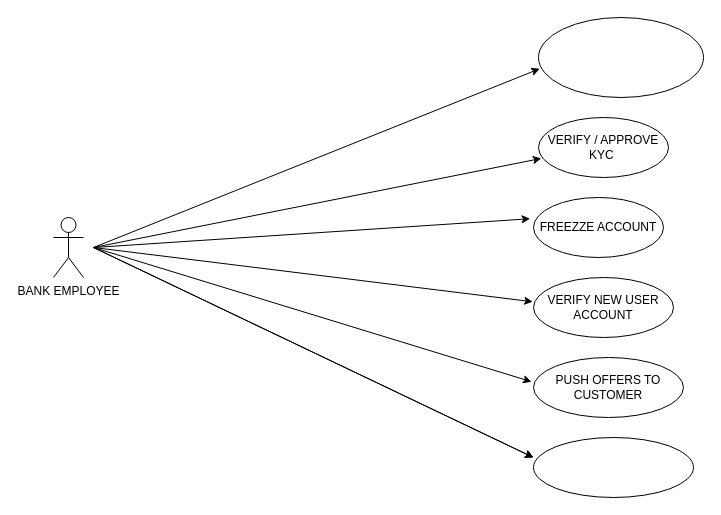
This 721x515 diagram has some shape labels left out. The shapes that lost their labels are listed below. From the top down, each one's box as (x1, y1, x2, y2) in pixels, then its label:
(538, 16, 704, 98): MODIFY CUSTOMER KYC
(532, 436, 694, 498): CUSTOMER TICKETS RESOLUTION
